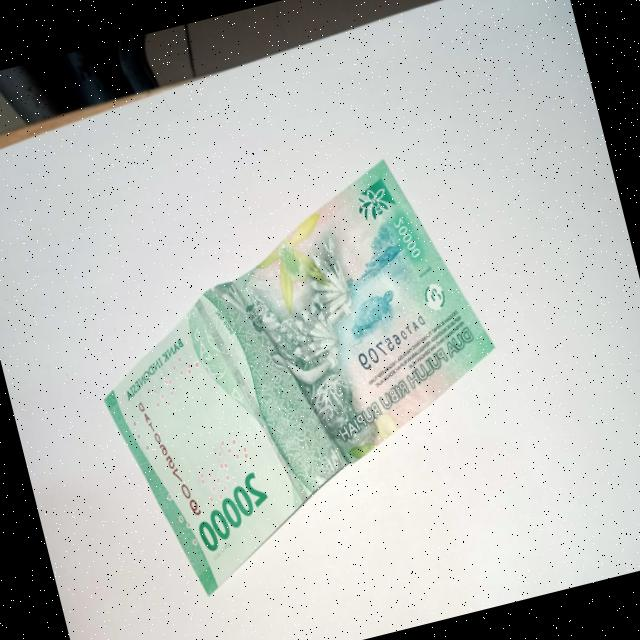20K: (57, 140, 538, 614)
